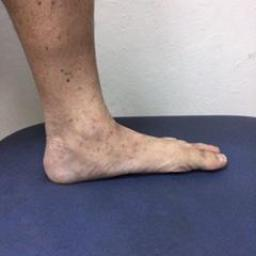Medial View -Left Foot-: (33, 91, 233, 193)
